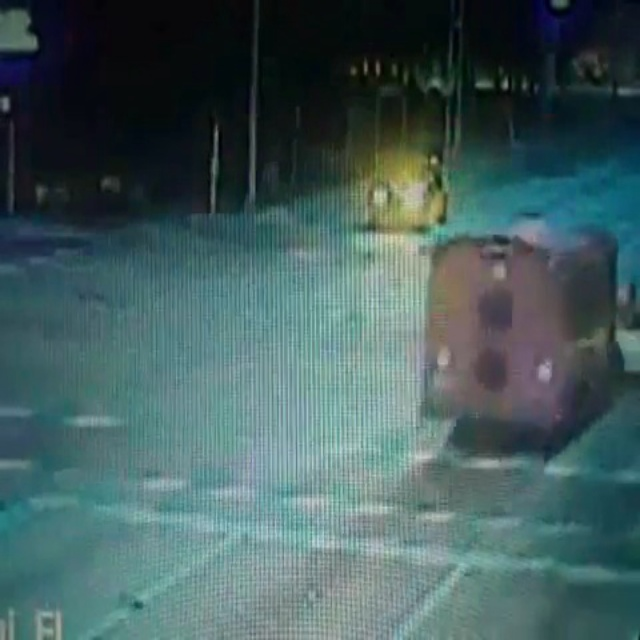acc: (412, 208, 640, 460)
